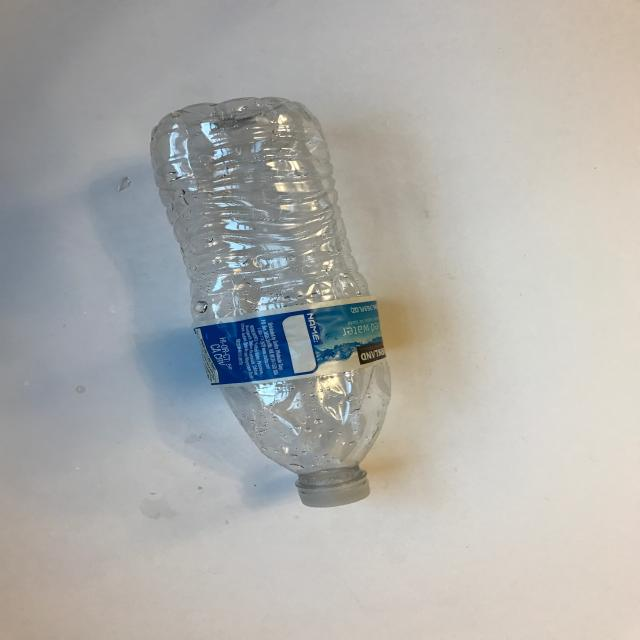plastic: (148, 95, 393, 507)
